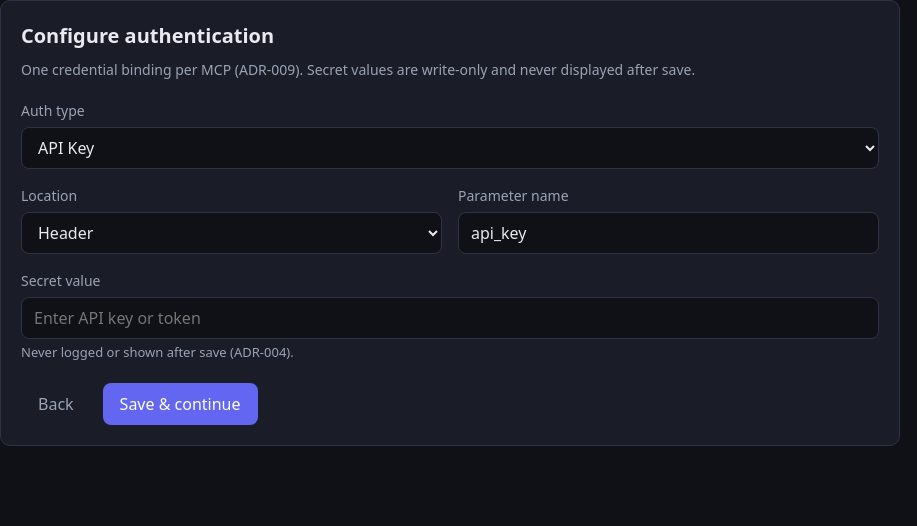
it: AuthStep › shows API errors from credential save
This screenshot has width=917, height=526.
Expected: the heading "Configure authentication" is shown, [21, 22, 274, 49]
Type "bad" into the password field labelled "Secret value" at [450, 318], box [21, 297, 879, 339]
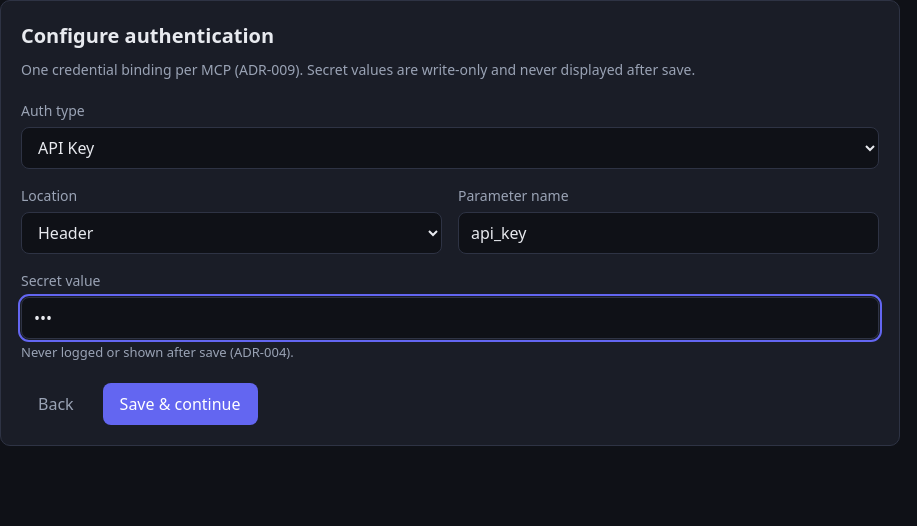
Click the button "Save & continue" at [180, 404], box [103, 382, 258, 424]
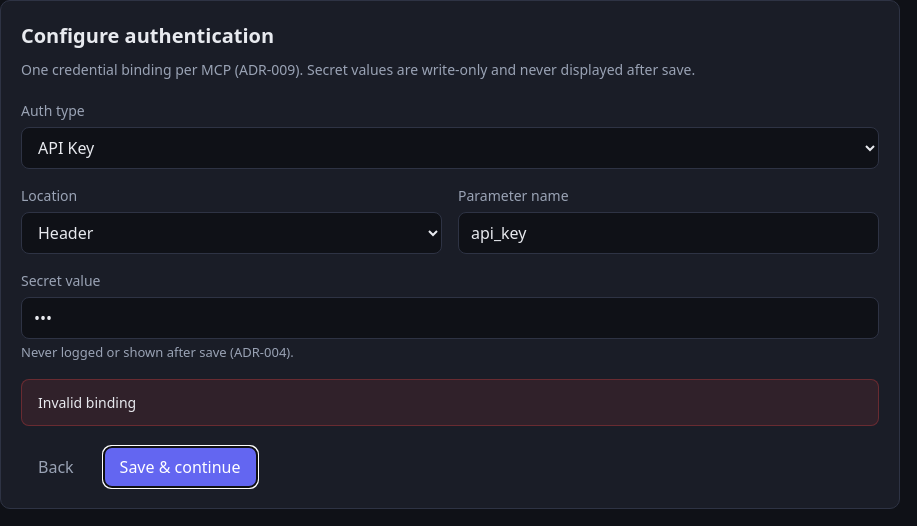
Expected: the text "Invalid binding" is shown, [21, 378, 879, 426]
